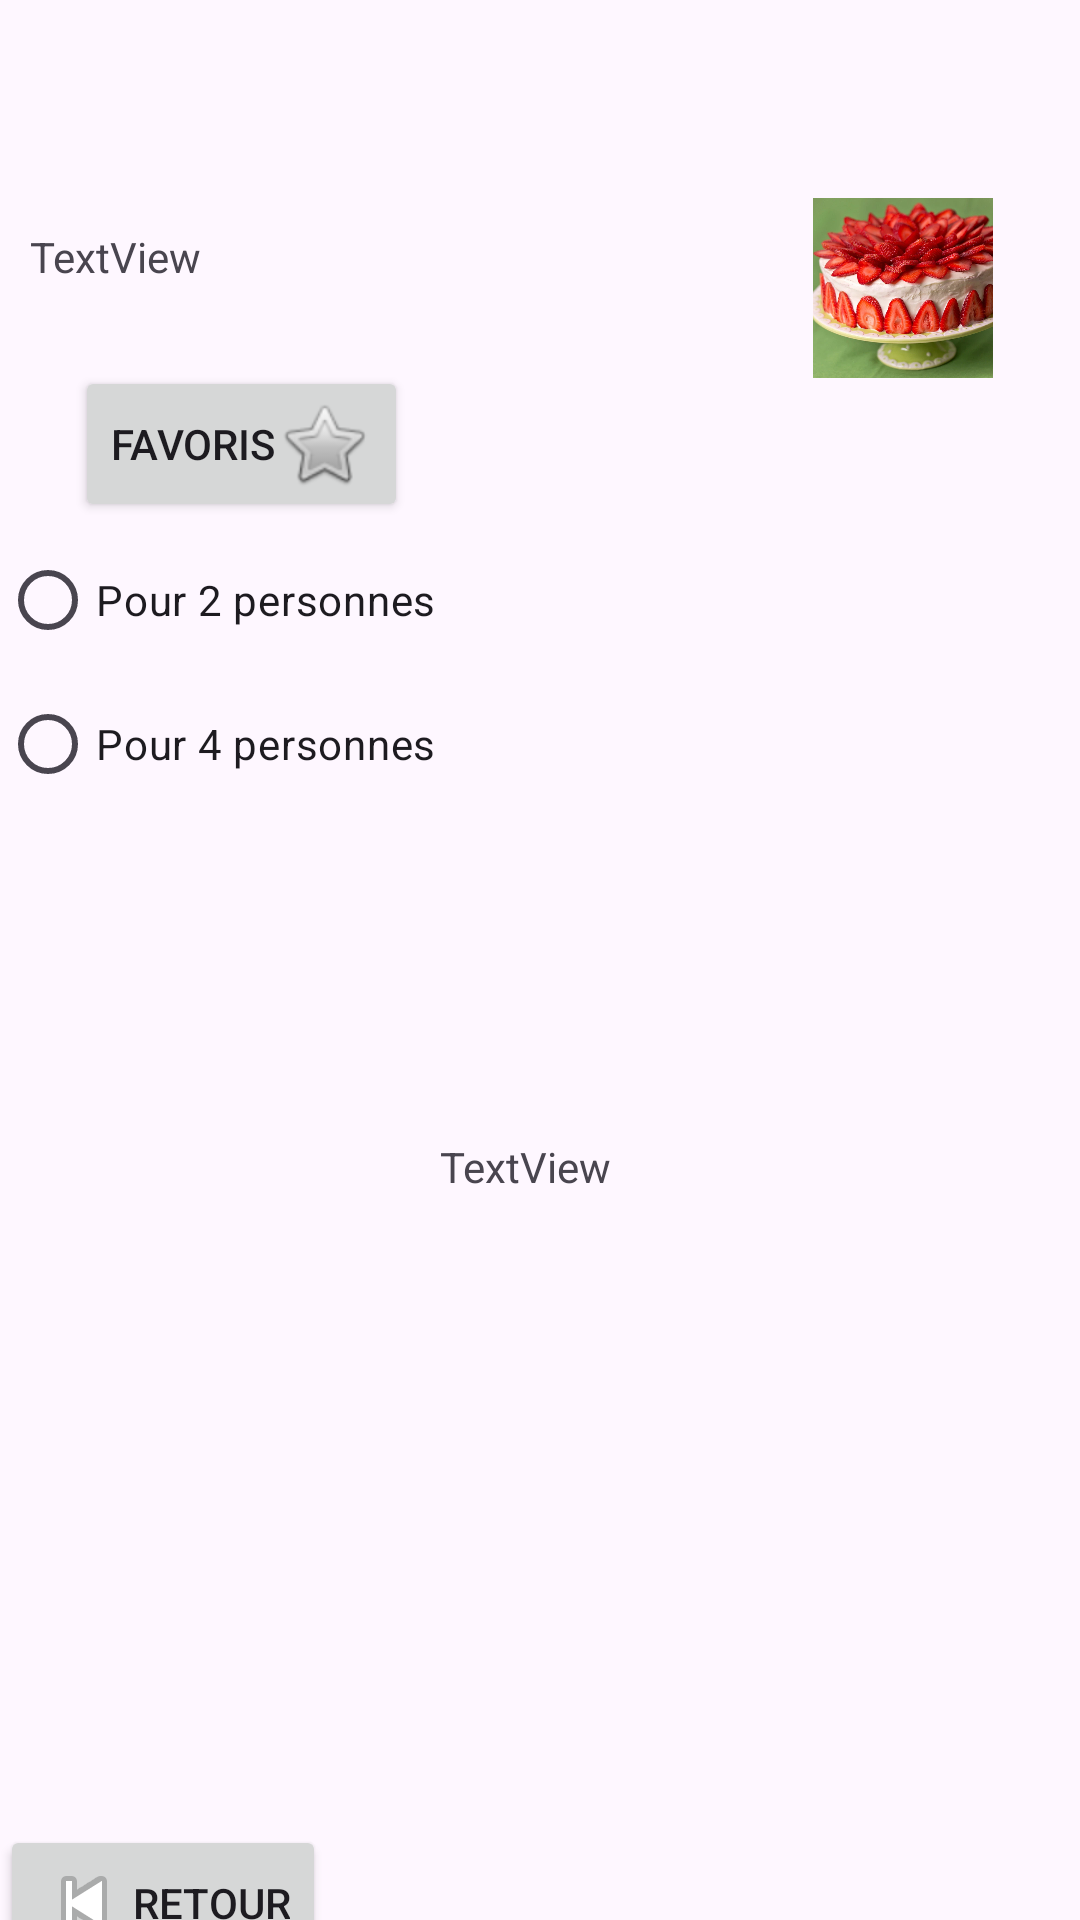

Icon click points for this 1080 x 1920 phone screenshot, format [x,y]:
fraise: [903,288]
